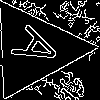A: (9, 24, 74, 76)
